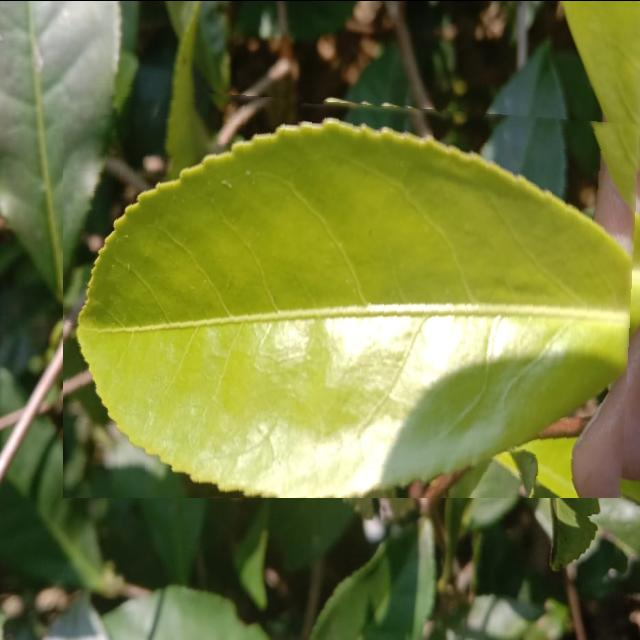Category B 2-4 days: (63, 81, 640, 497)
